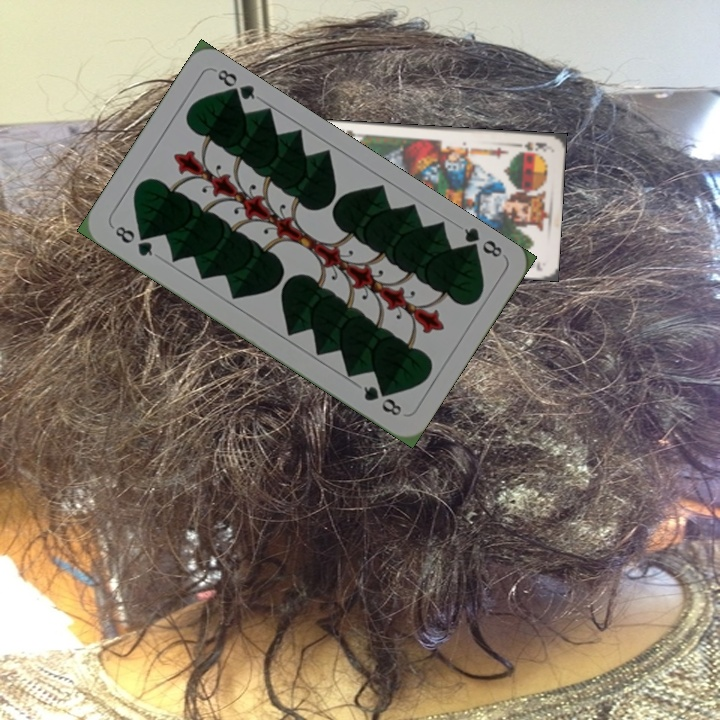G8: (108, 221, 156, 259), (458, 223, 505, 260)
SK: (520, 137, 550, 154)
